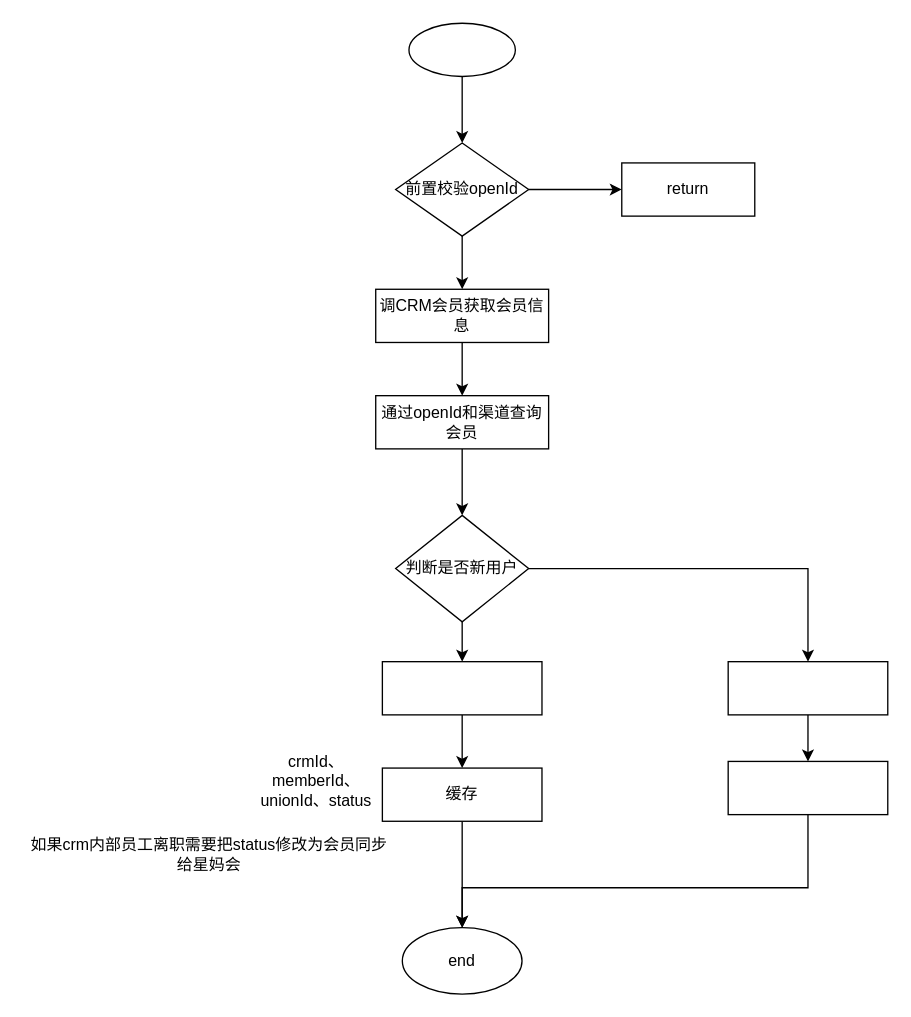
The diagram is 911 pixels wide and 1017 high, and some of its shapes have lost their labels. The centre of each missing label's shape, as x and y in pixels:
"start" belongs at (x=461, y=49).
"保存会员信息" belongs at (x=461, y=687).
"更新会员信息（crmId）" belongs at (x=807, y=787).
"更新缓存" belongs at (x=807, y=687).
